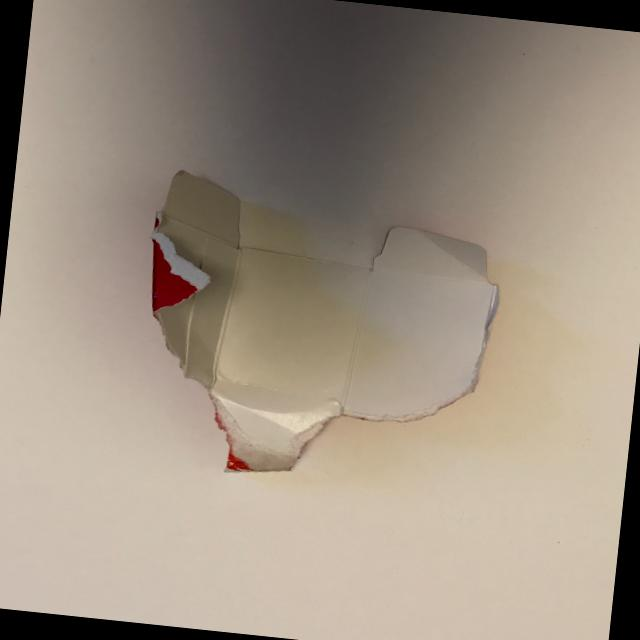Paper: (95, 120, 527, 508)
